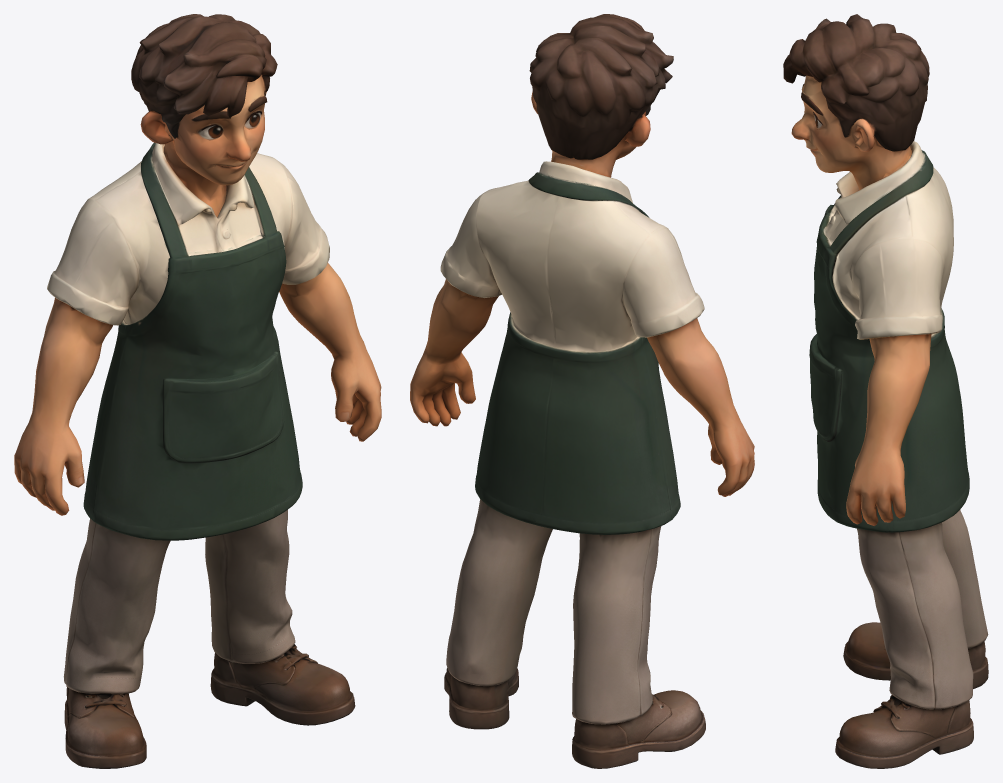
File: Barista.glb
3 views of the same model, side by side, from view 1: azimuth 30°, elevation 25°; view 2: azimuth 150°, elevation 25°; view 3: azimuth 270°, elevation 25° (orthographic). The views are drawn at different scales.
Parts seen in each view (by area): view 1: tripo_node_5b66610f-800f-494f-ba2d-0f438a868920; view 2: tripo_node_5b66610f-800f-494f-ba2d-0f438a868920; view 3: tripo_node_5b66610f-800f-494f-ba2d-0f438a868920.
Boxes of the visible parts, x1,y1,x2,y2 form: tripo_node_5b66610f-800f-494f-ba2d-0f438a868920: (14, 14, 381, 768); tripo_node_5b66610f-800f-494f-ba2d-0f438a868920: (410, 14, 754, 768); tripo_node_5b66610f-800f-494f-ba2d-0f438a868920: (783, 14, 988, 768).
Size of the model in its own units: 0.4985 by 0.9815 by 0.2676.
Materials: 1 (1 with a texture image).
